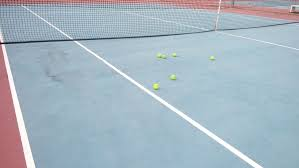tennis_ball: (152, 82, 160, 90), (169, 73, 177, 81), (209, 53, 215, 61), (162, 53, 167, 60), (171, 51, 176, 56), (157, 52, 161, 57)
